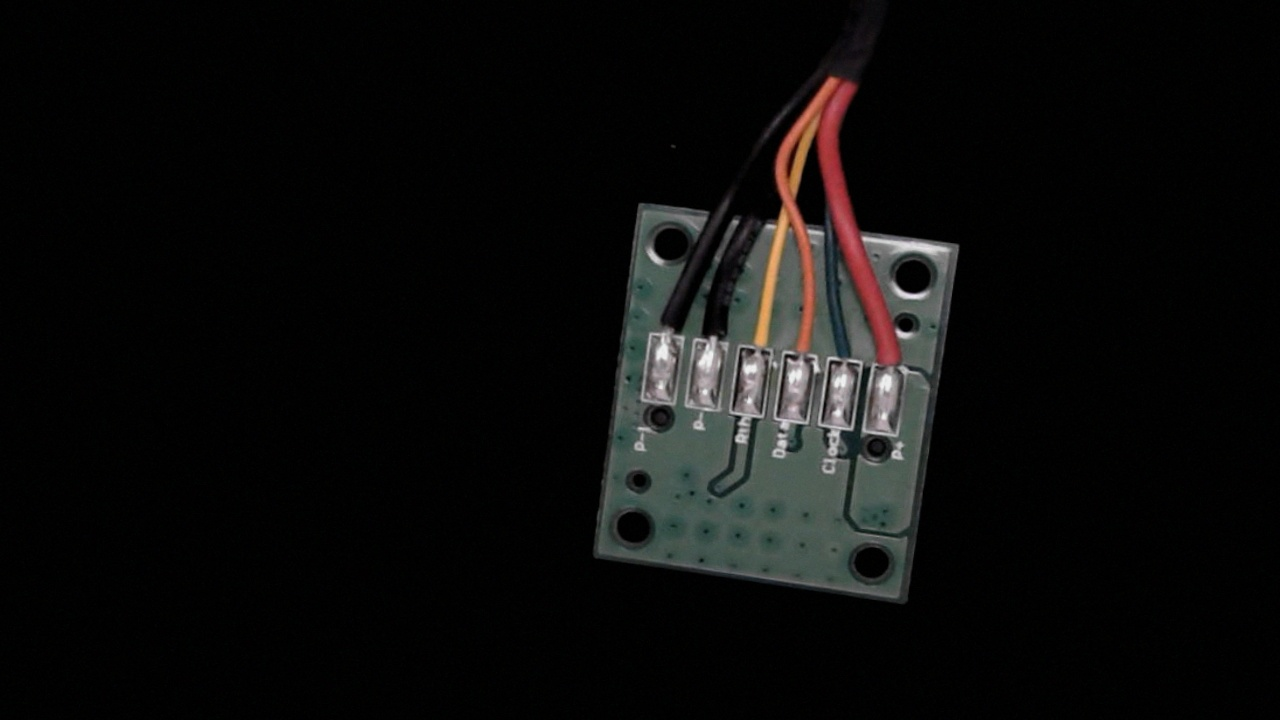Black: (691, 276, 743, 363)
Black1: (643, 274, 693, 354)
Green: (821, 315, 869, 384)
Orange: (779, 291, 828, 376)
Red: (868, 307, 920, 390)
Yellow: (735, 282, 787, 370)
